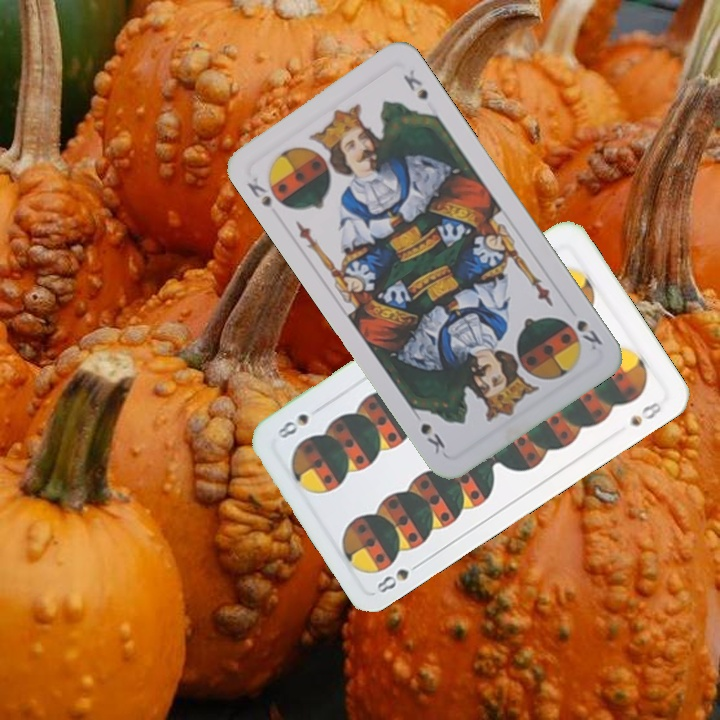S8: (372, 557, 426, 596)
SK: (572, 315, 605, 353), (243, 173, 274, 210)
